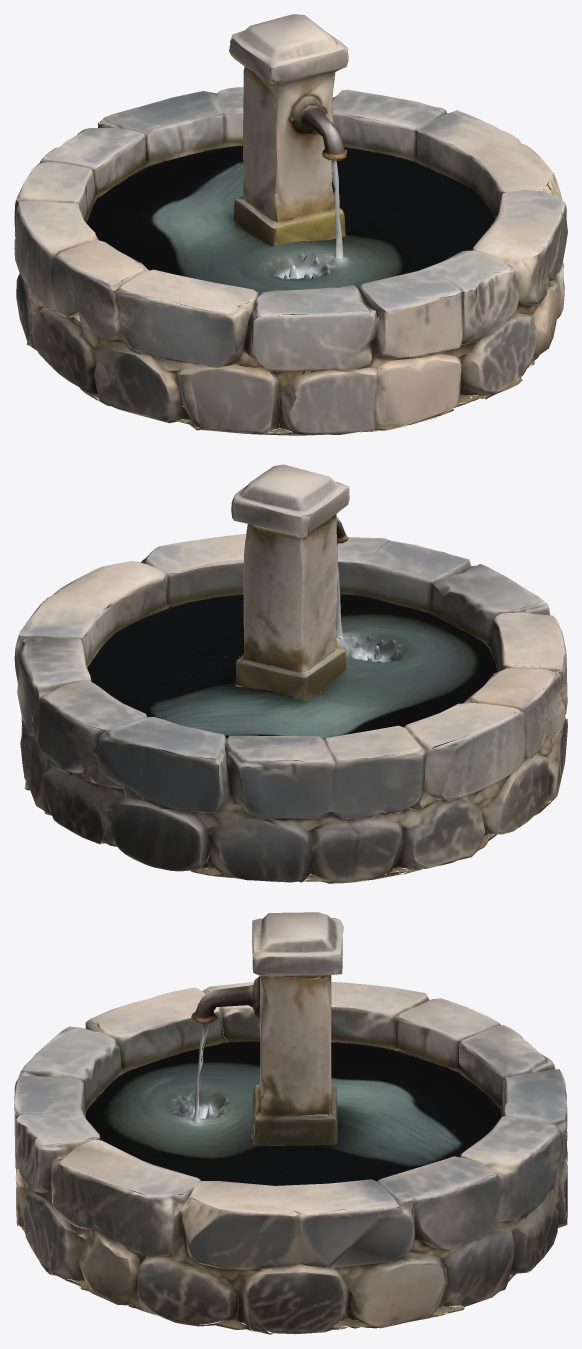
The model's file is fuente_plaza.glb.
The picture shows the model from 3 angles, top to bottom: view 1: azimuth 30°, elevation 25°; view 2: azimuth 150°, elevation 25°; view 3: azimuth 270°, elevation 25°; orthographic projection.
Visible parts, largest first — view 1: geometry_0; view 2: geometry_0; view 3: geometry_0.
Boxes of the visible parts, left/top/right/bottom form: geometry_0: left=14, top=14, right=567, bottom=435; geometry_0: left=14, top=464, right=567, bottom=883; geometry_0: left=14, top=912, right=567, bottom=1334.
Bounding box in the file's own units: 2.2 × 1.3 × 2.2.
Materials: 1 (1 with a texture image).
